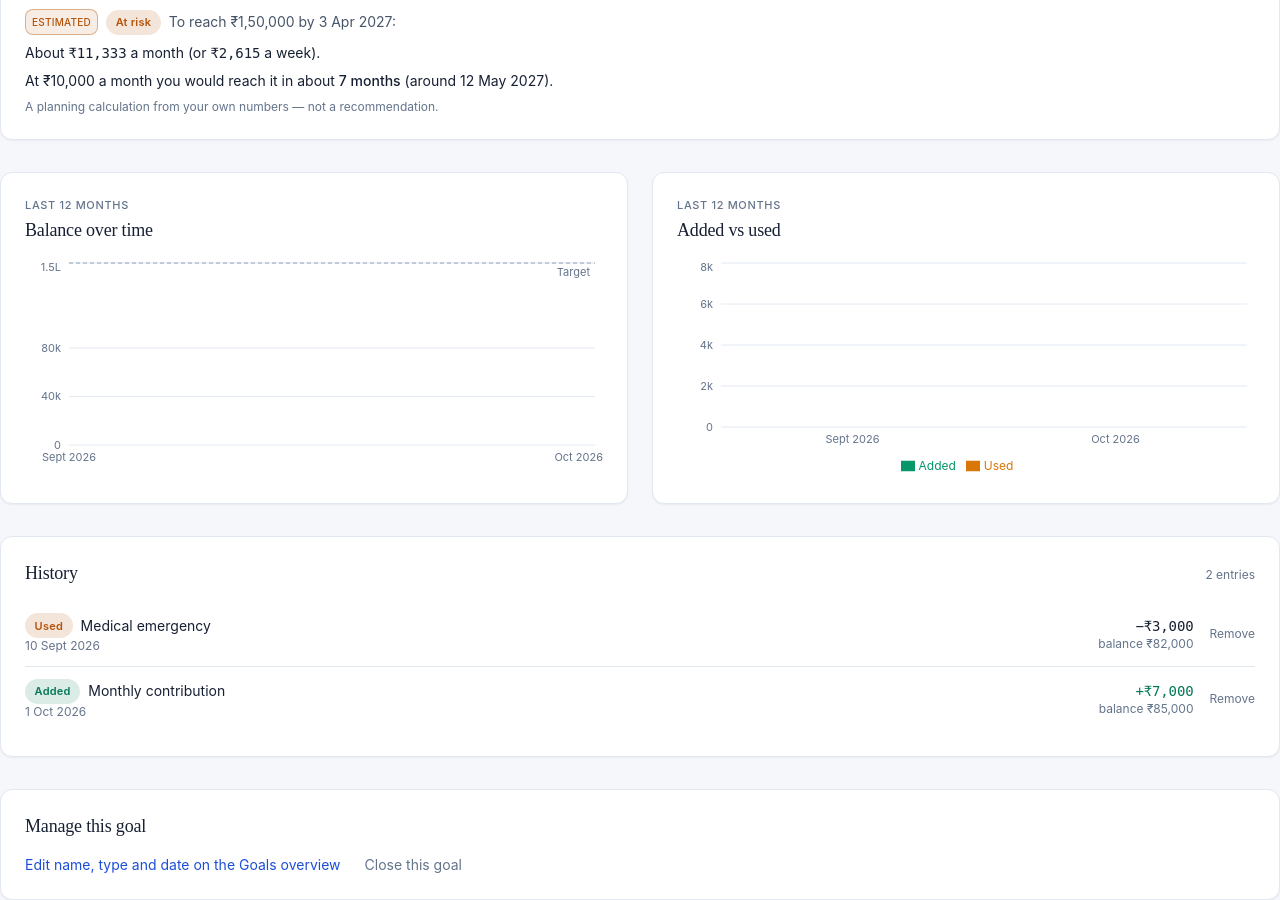
Test case: Money → Goals — history › tells the user when deleting a spend entry kept its expense
(page scrolled)
Click the button "Remove" next to "−₹3,000" at [1232, 634], box 1210,626 -> 1255,642
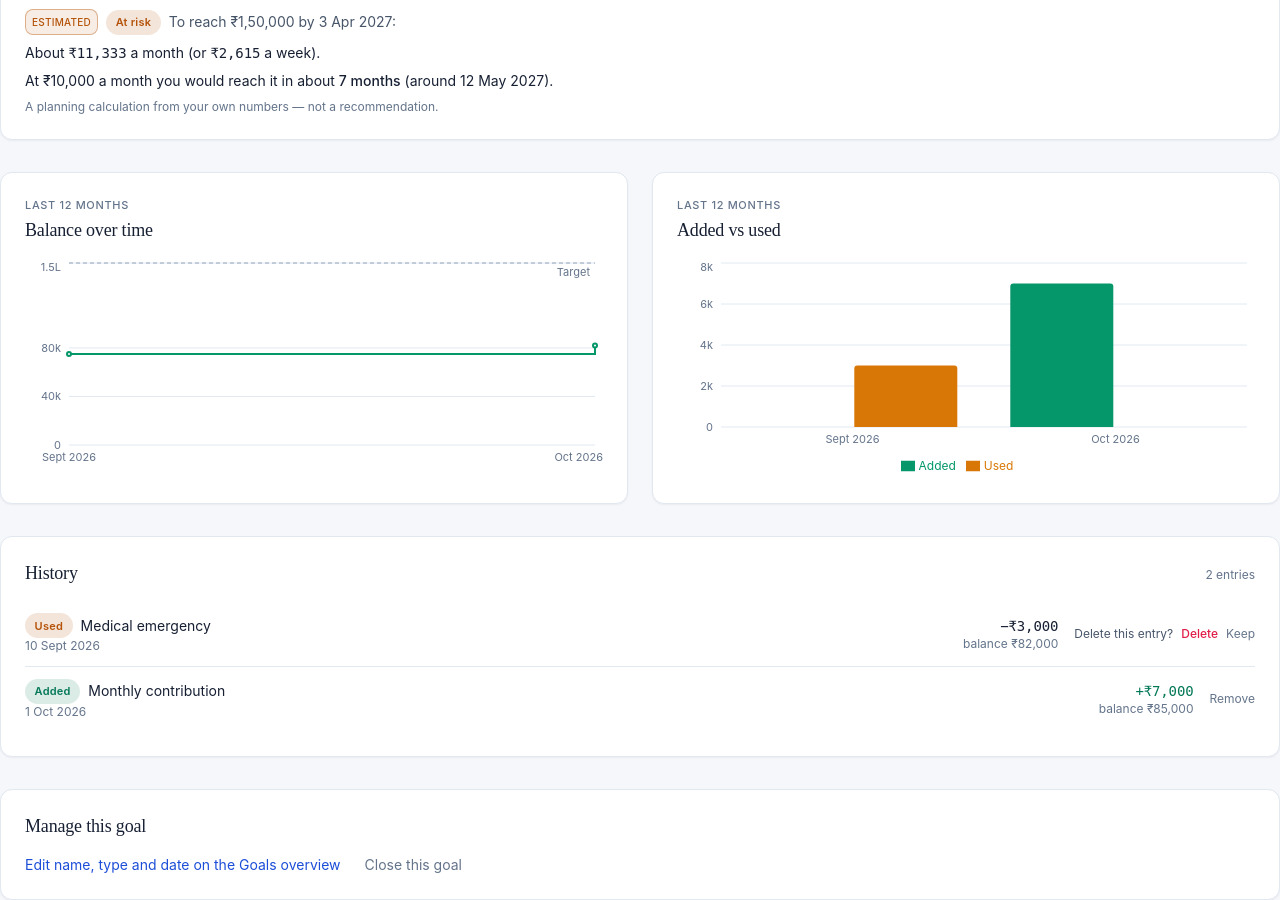
Click the button "Delete" at [1200, 634], box 1181,626 -> 1218,642
(page scrolled)
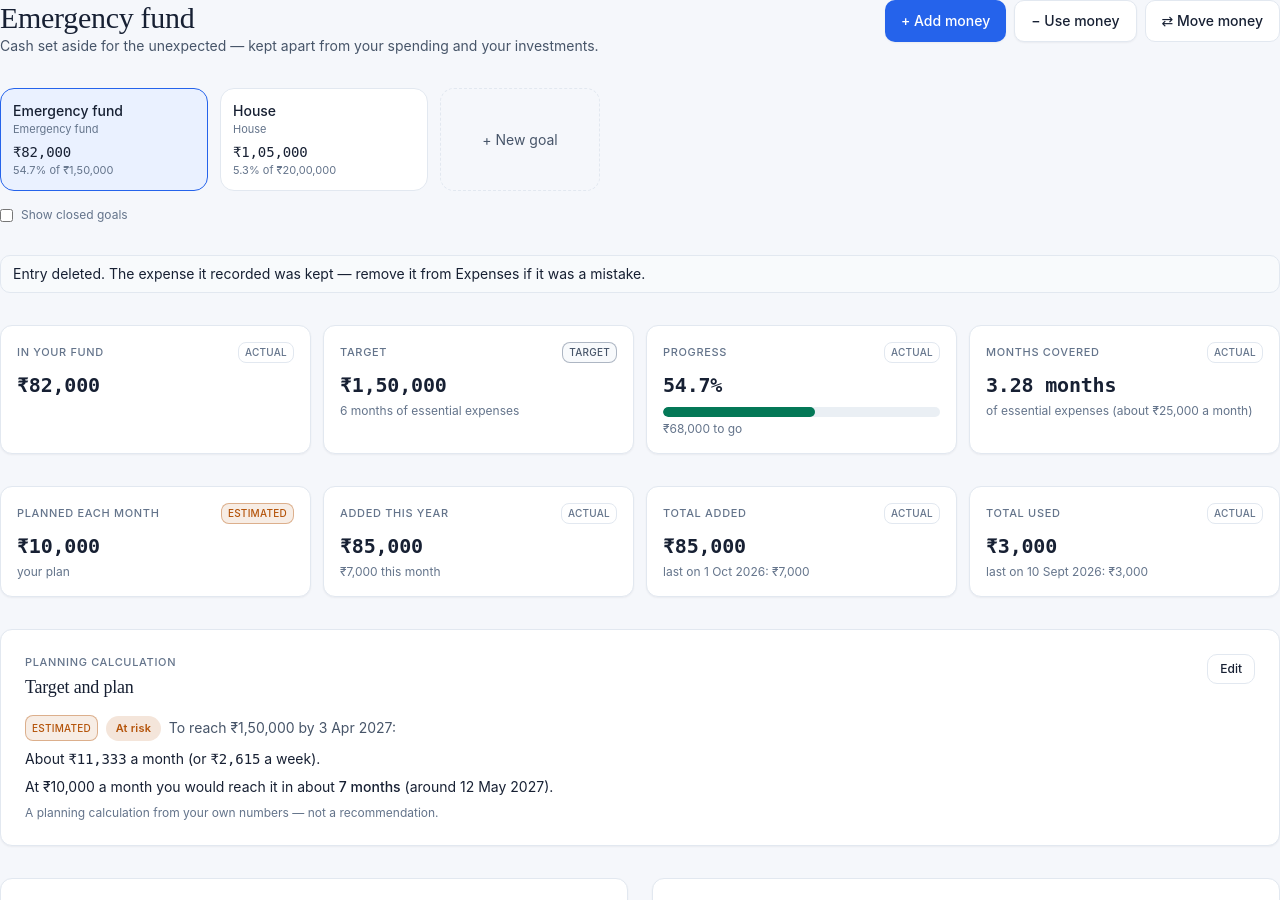
Check: the message shows "The expense it recorded was kept", box 13,265 -> 645,282
